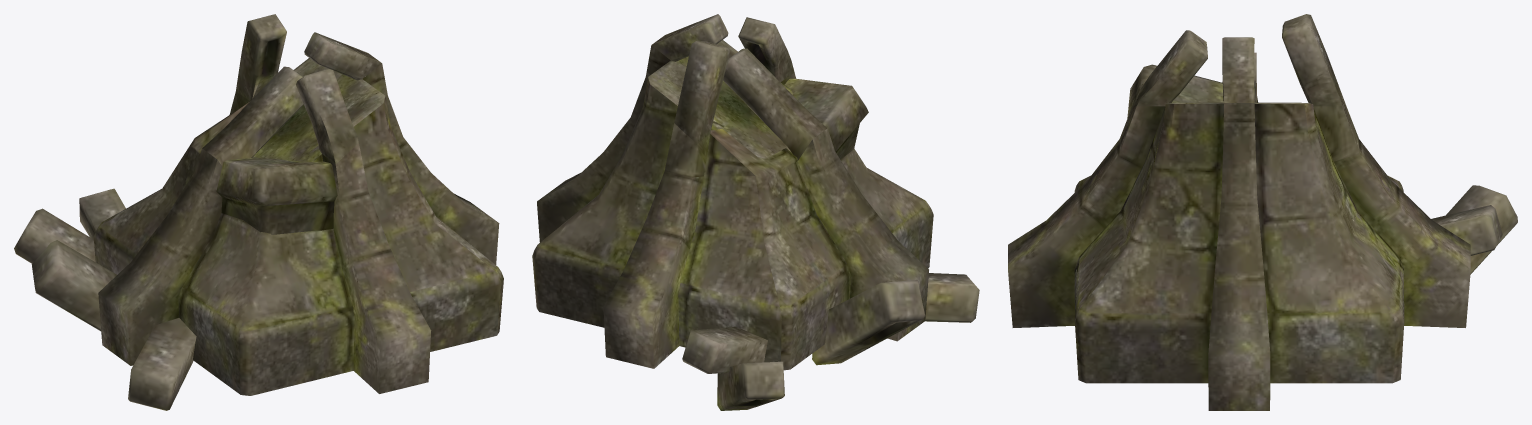
The model's file is Tyros_Brazier_Broken_02-transformed.glb.
The picture shows the model from 3 angles, left to right: view 1: azimuth 30°, elevation 25°; view 2: azimuth 150°, elevation 25°; view 3: azimuth 270°, elevation 25°; orthographic projection. The views are drawn at different scales.
Visible parts, largest first — view 1: default; view 2: default; view 3: default.
Part boxes in pixels (x1,y1,x2,y2): default: (14, 14, 503, 410); default: (532, 14, 979, 410); default: (1008, 14, 1517, 410).
Size of the model in its own units: 3.01 by 2.21 by 2.97.
1 material, 1 textured.
